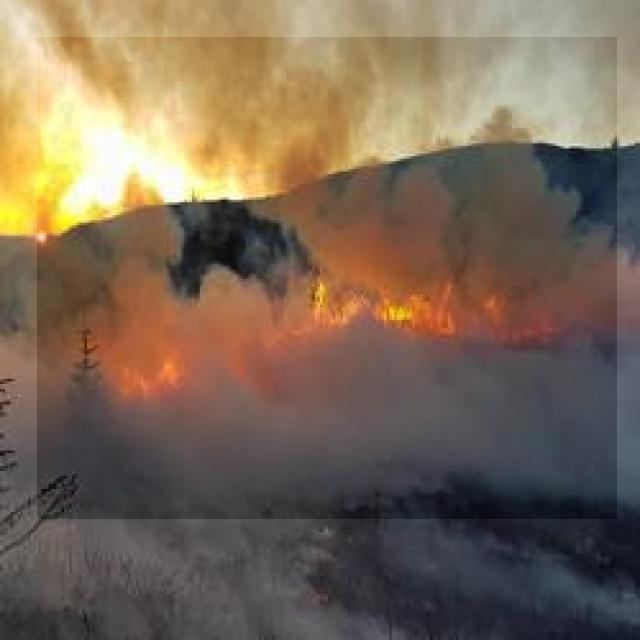Fire: (243, 284, 497, 362)
Smoke: (37, 37, 617, 519)
